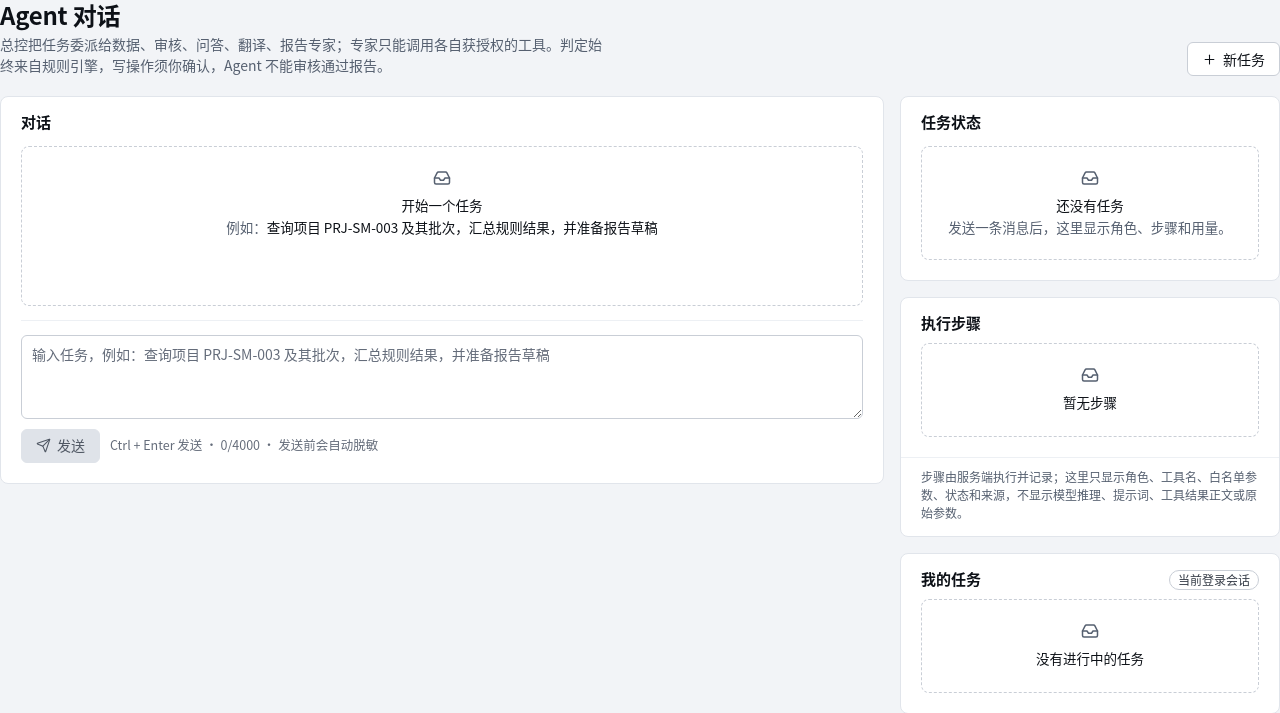
Agent 对话：发送与结果 › 发送后显示最终回答、规则判定表（来自 evidence）、审核入口和步骤；请求带 CSRF，任务号写入地址
In the text box named "消息": (442, 376) [21, 334, 863, 418], type "查询项目 PRJ-SM-003 及其批次，汇总规则结果，并准备报告草稿"
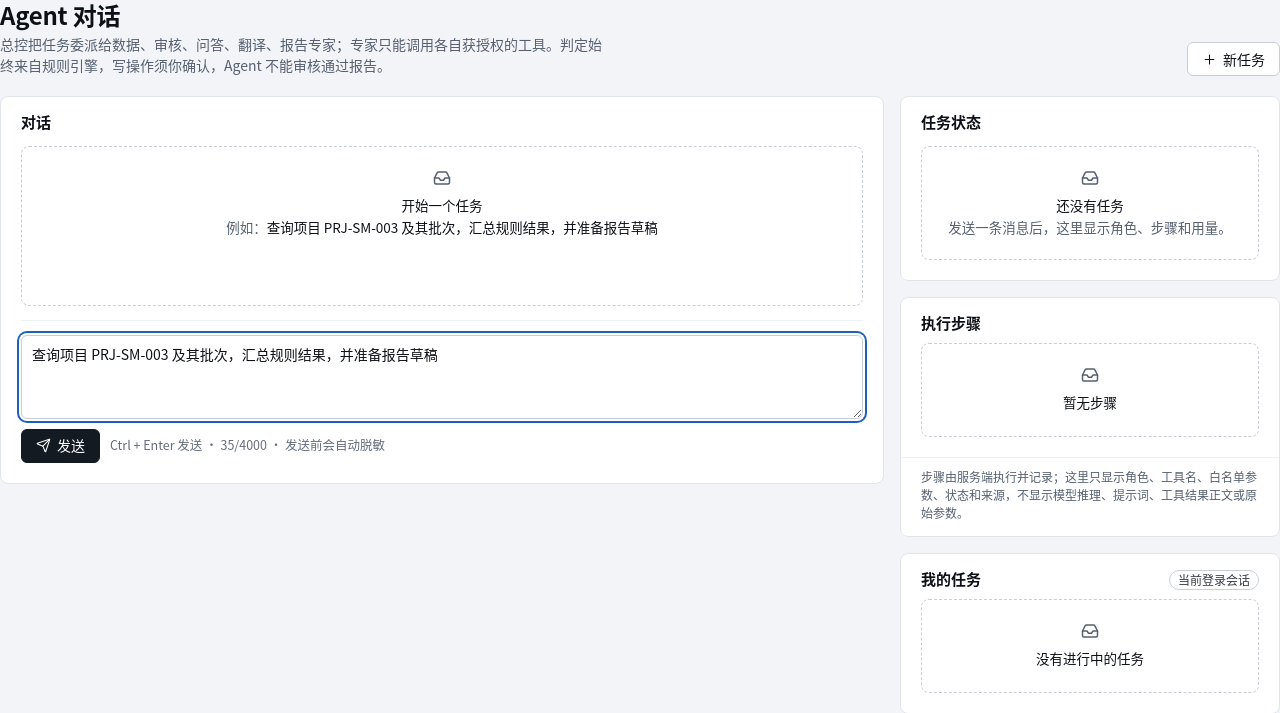
Click the button "发送": (60, 446) [21, 428, 100, 462]
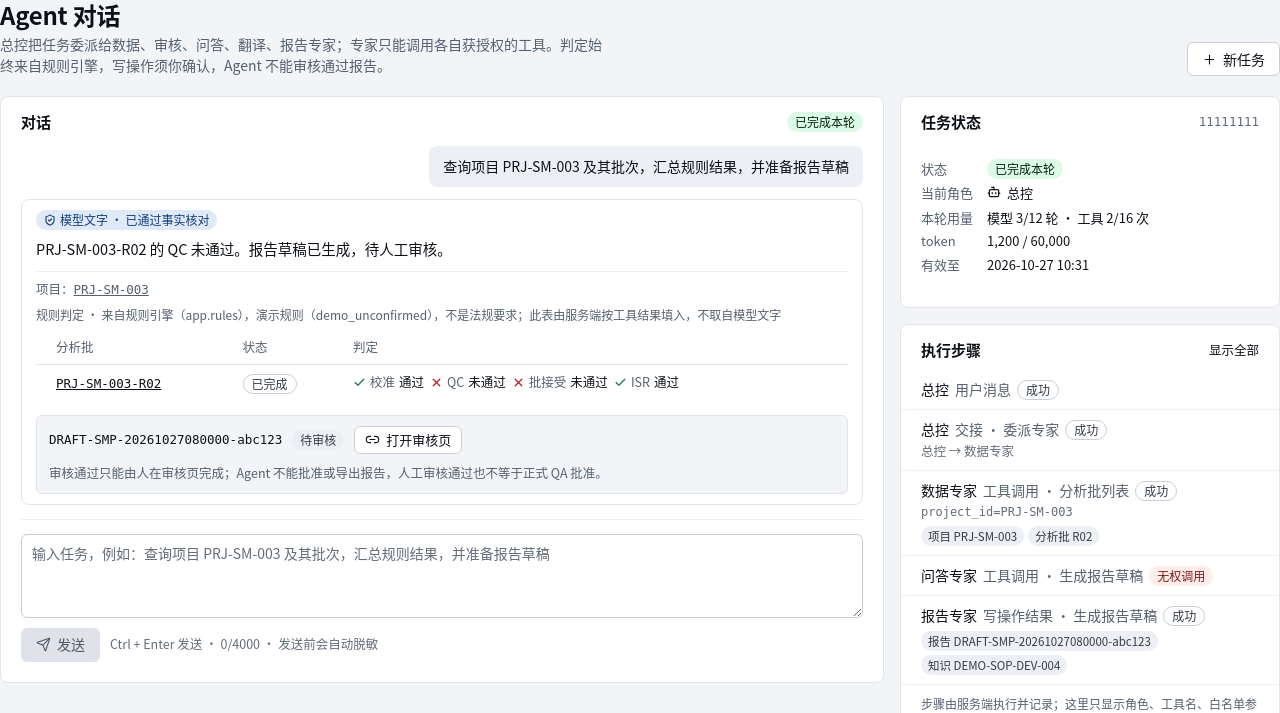
Check: the text "PRJ-SM-003-R02 的 QC 未通过。报告草稿已生成，待人工审核。" is shown, box [36, 238, 452, 258]
Check: the text "模型文字 · 已通过事实核对" is shown, box [36, 210, 217, 230]
Check: the text "校准" is shown, box [370, 373, 395, 392]
